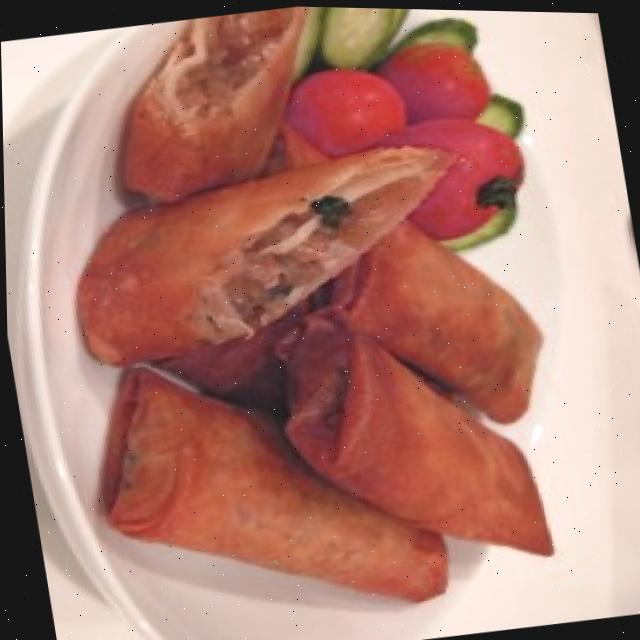鸡蛋料理: (44, 127, 600, 640)
